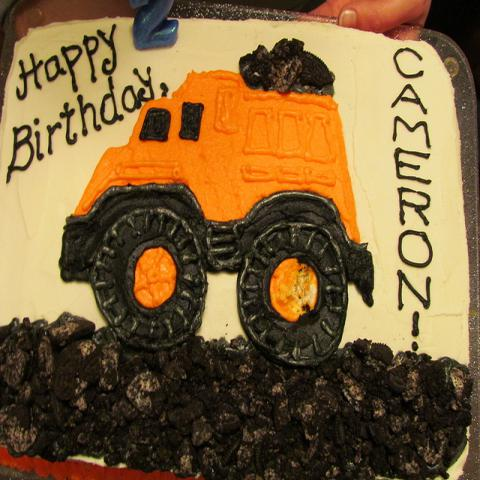truck: (65, 72, 374, 365)
